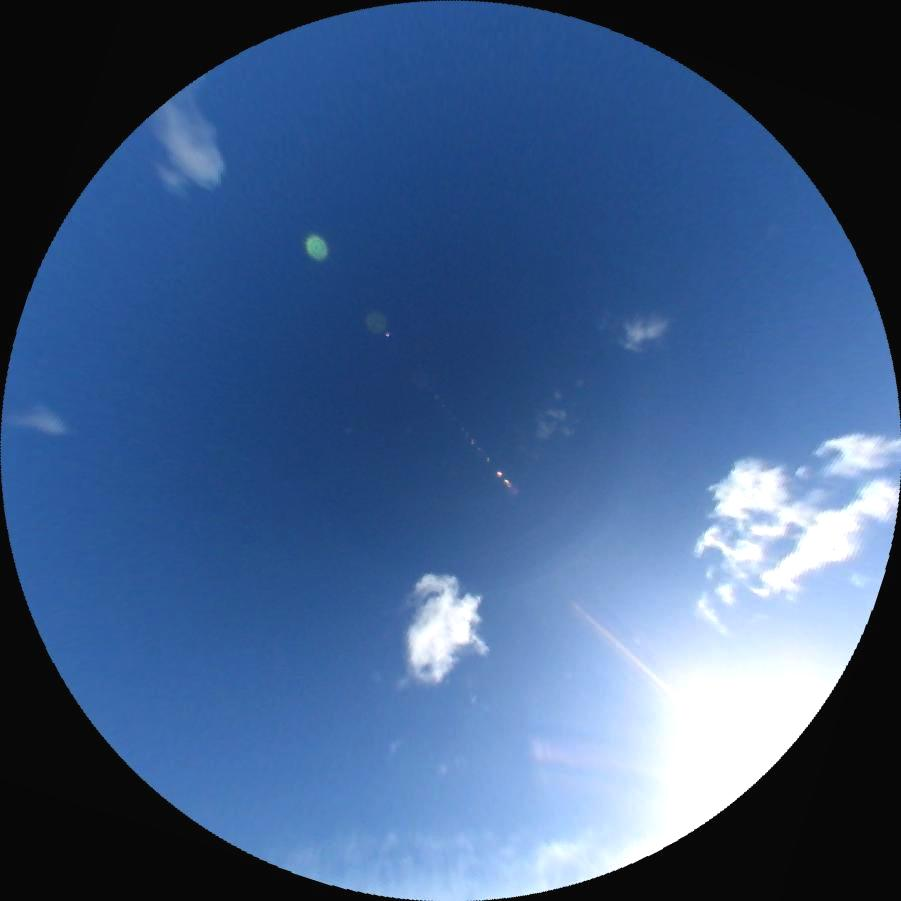parasite: (566, 595, 699, 719)
sun: (646, 648, 827, 826)
